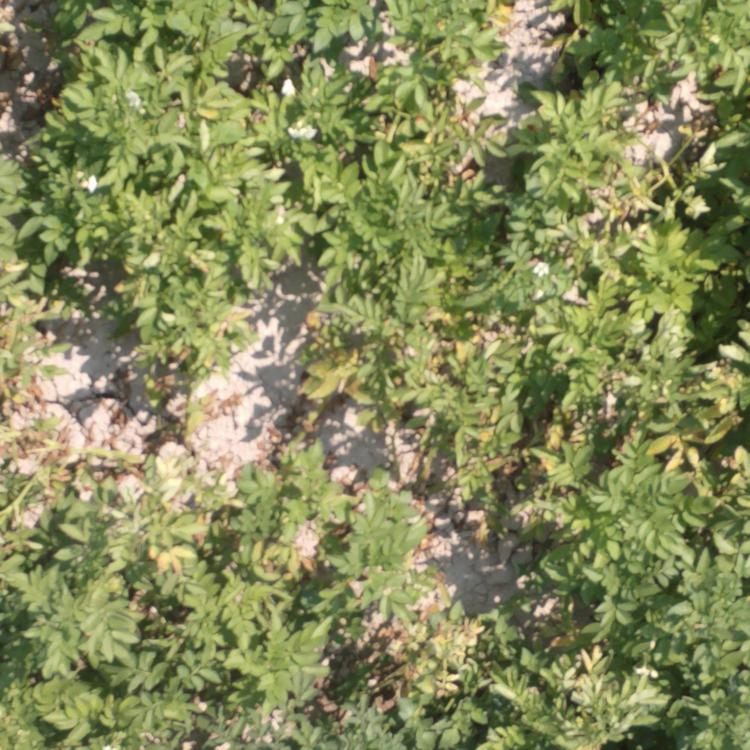healthy: (19, 1, 393, 270), (555, 1, 750, 478), (458, 481, 750, 748), (1, 472, 143, 744), (411, 73, 548, 283), (120, 274, 233, 432)
stressed: (151, 477, 459, 741), (290, 292, 567, 475), (417, 1, 539, 63)
